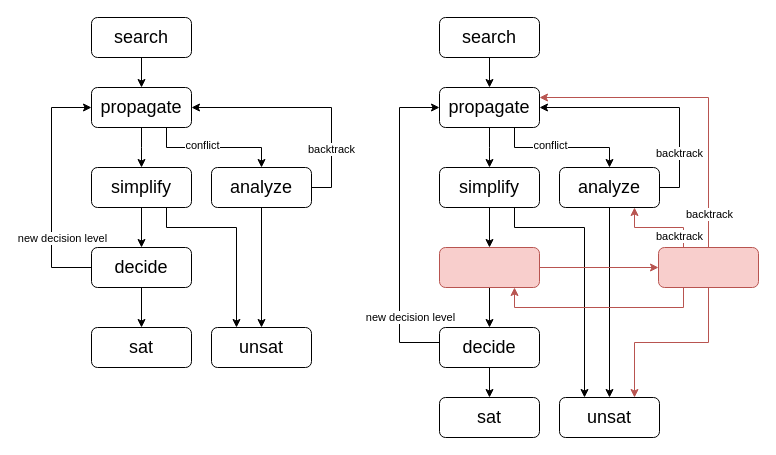
Image size: 776x455. Some labels were removed from this diagram. The box of each missing label's shape, as (x1, y1, x2, y2) in pixels:
add: (658, 246, 758, 288)
interact: (438, 246, 540, 288)
